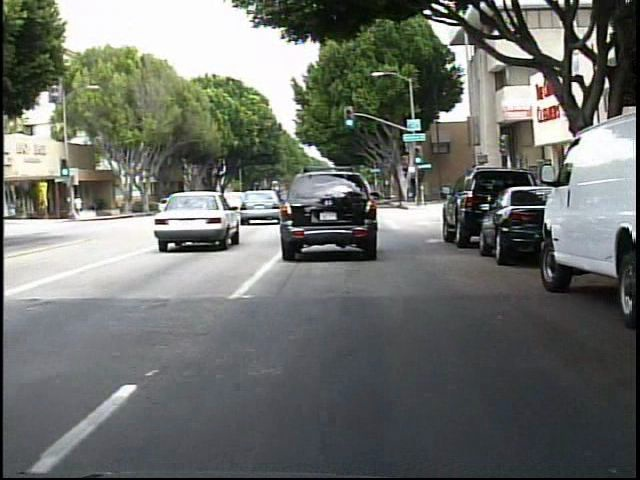person: (75, 192, 86, 220)
